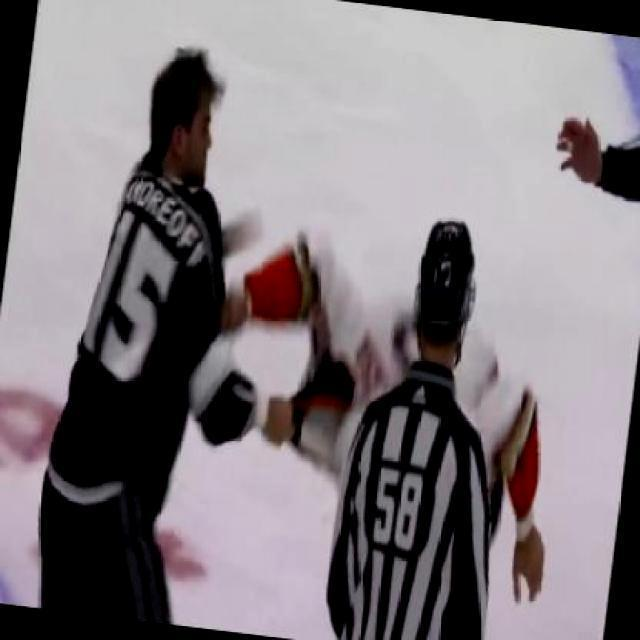fight: (22, 16, 416, 638)
